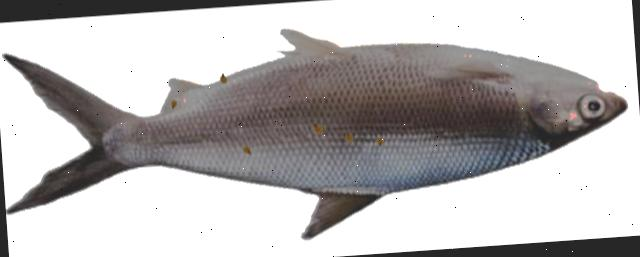Parasitic Disease: (4, 30, 626, 237)
